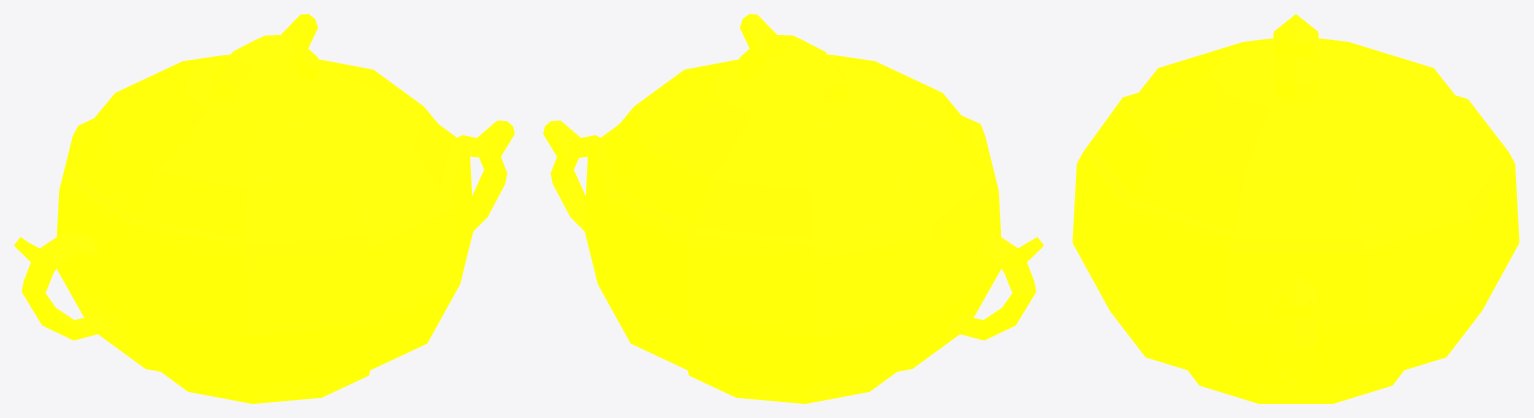
File: serving-pot-christmas.glb
3 views of the same model, side by side, from view 1: azimuth 30°, elevation 25°; view 2: azimuth 150°, elevation 25°; view 3: azimuth 270°, elevation 25° (orthographic). The views are drawn at different scales.
Visible parts, largest first — view 1: serving_pot_christmas_base, serving_pot_christmas_lid; view 2: serving_pot_christmas_base, serving_pot_christmas_lid; view 3: serving_pot_christmas_base, serving_pot_christmas_lid.
Boxes of the visible parts, <box> form: serving_pot_christmas_base: <box>14,118,514,403</box>; serving_pot_christmas_lid: <box>76,14,452,238</box>; serving_pot_christmas_base: <box>543,116,1043,403</box>; serving_pot_christmas_lid: <box>605,14,981,238</box>; serving_pot_christmas_base: <box>1072,92,1519,403</box>; serving_pot_christmas_lid: <box>1095,14,1496,229</box>.
Size of the model in its own units: 0.4001 by 0.2547 by 0.2983.
1 material, 1 textured.
